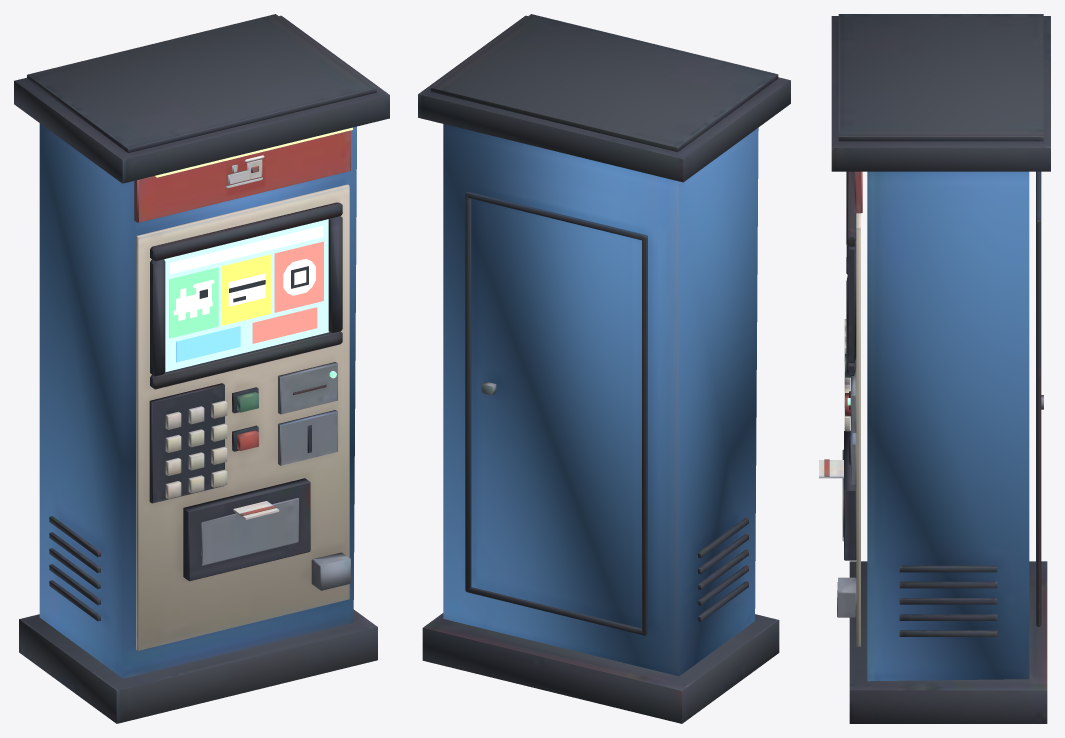
The model's file is ticket.glb.
3 renders of one model, left to right at view 1: azimuth 30°, elevation 25°; view 2: azimuth 150°, elevation 25°; view 3: azimuth 270°, elevation 25°, orthographic.
Parts seen in each view (by area): view 1: ticket-machine_body, ticket-machine_screen_tiles_lens, ticket-machine_screen_lens, ticket-machine_screen_icons_lens, ticket-machine_light_lens; view 2: ticket-machine_body; view 3: ticket-machine_body.
Part boxes in pixels (x1,y1,x2,y2): ticket-machine_body: (14, 14, 389, 723); ticket-machine_screen_tiles_lens: (169, 225, 323, 362); ticket-machine_screen_lens: (164, 219, 328, 372); ticket-machine_screen_icons_lens: (173, 259, 315, 320); ticket-machine_light_lens: (155, 127, 352, 177); ticket-machine_body: (418, 14, 790, 723); ticket-machine_body: (819, 14, 1050, 723).
Bounding box in the file's own units: 0.8737 × 1.8 × 0.6489.
11 materials, 1 textured.
